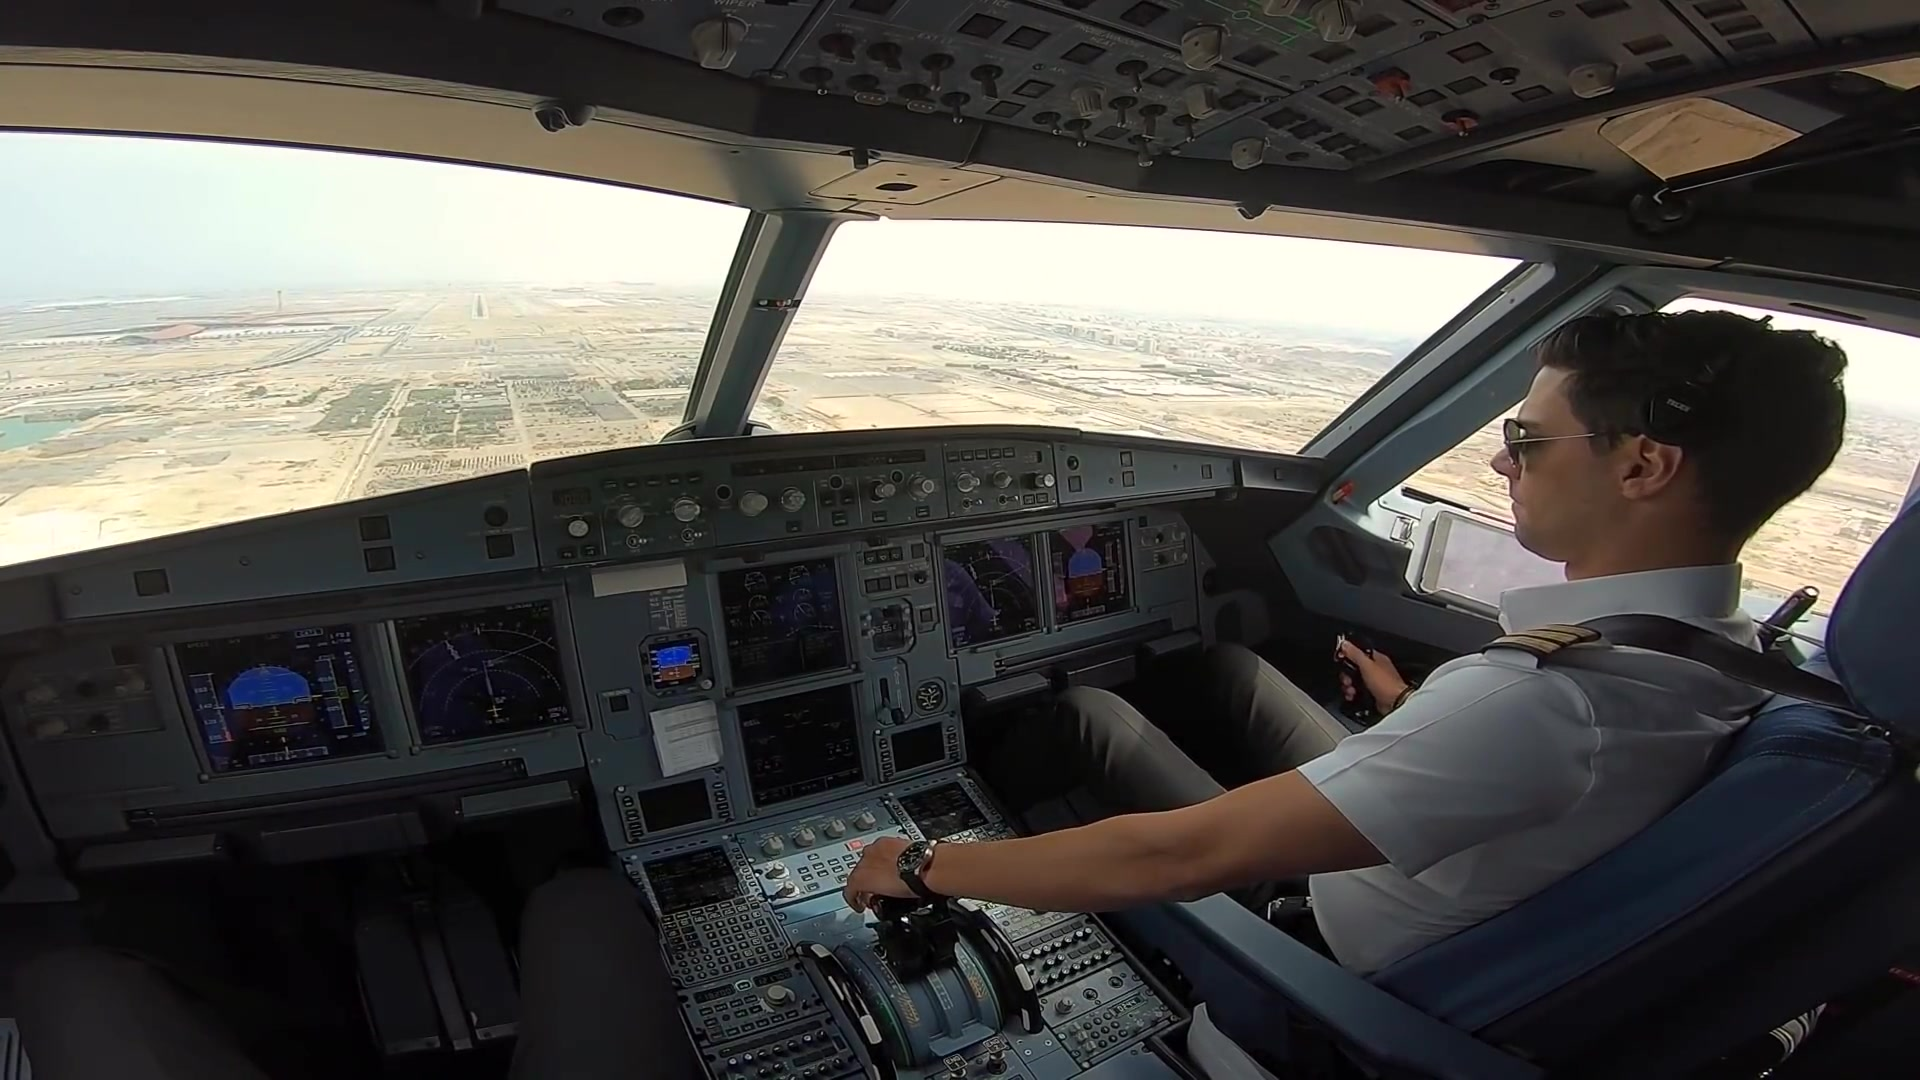runway: (468, 290, 491, 320)
